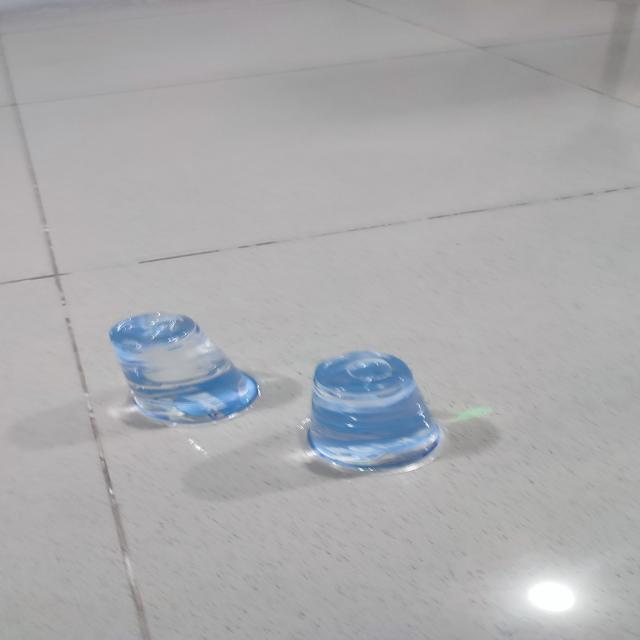air gelas: (102, 305, 264, 439), (292, 347, 452, 477)
